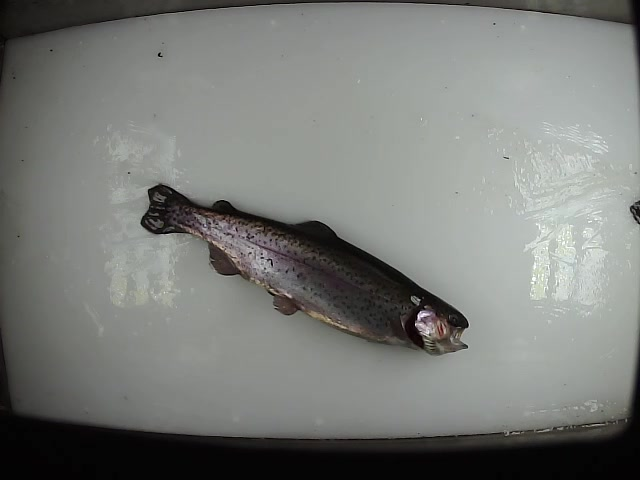fish: (138, 182, 469, 358)
